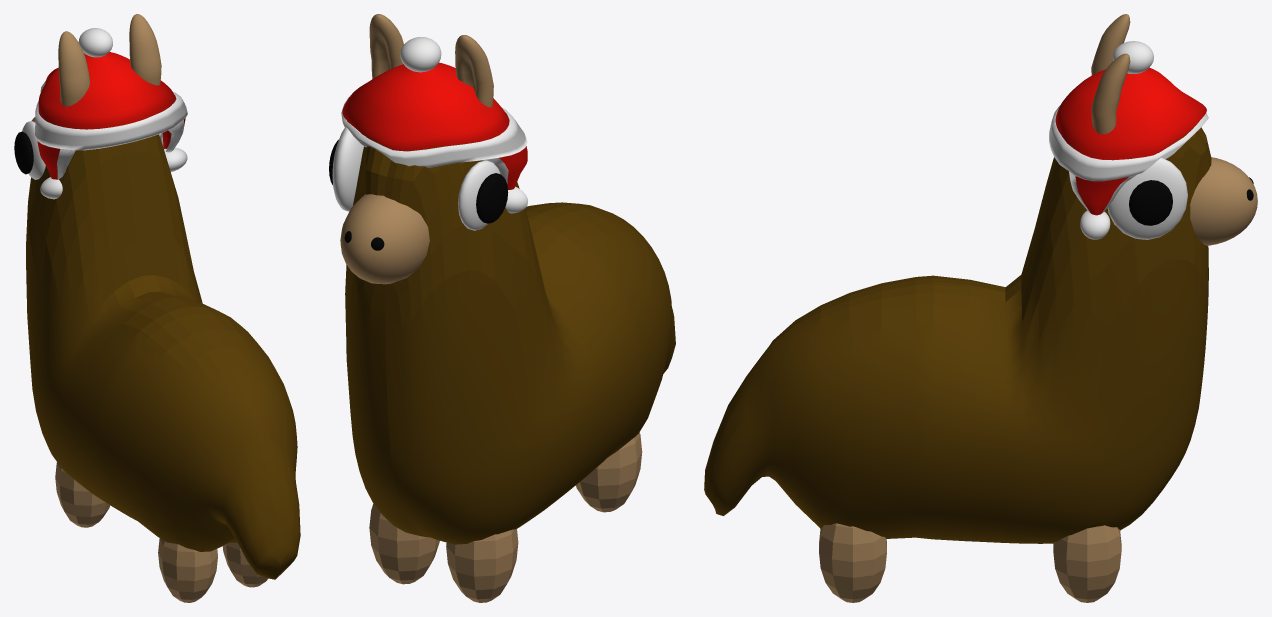
The model's file is 01_Santa_Llama.fbx.
3 views of the same model, side by side, from view 1: azimuth 30°, elevation 25°; view 2: azimuth 150°, elevation 25°; view 3: azimuth 270°, elevation 25° (orthographic). The views are drawn at different scales.
Visible parts, largest first — view 1: Santa_Llama; view 2: Santa_Llama; view 3: Santa_Llama.
Boxes of the visible parts, x1,y1,x2,y2 form: Santa_Llama: [14, 14, 300, 602]; Santa_Llama: [329, 14, 675, 602]; Santa_Llama: [704, 14, 1257, 602].
Bounding box in the file's own units: 17.46 × 45.43 × 41.46.
